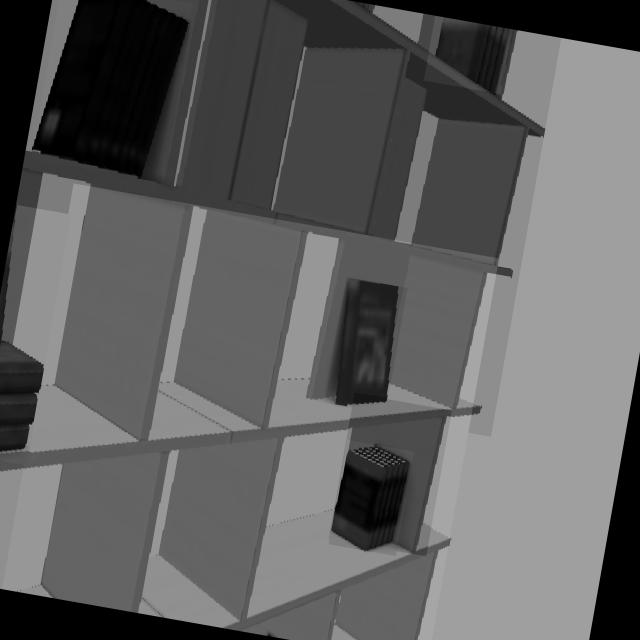book: (32, 0, 188, 178), (0, 205, 44, 454), (331, 444, 411, 551), (337, 278, 397, 406), (434, 16, 510, 93)
bookshelf: (0, 0, 543, 428), (26, 187, 449, 640)
shelf: (348, 409, 451, 553)
